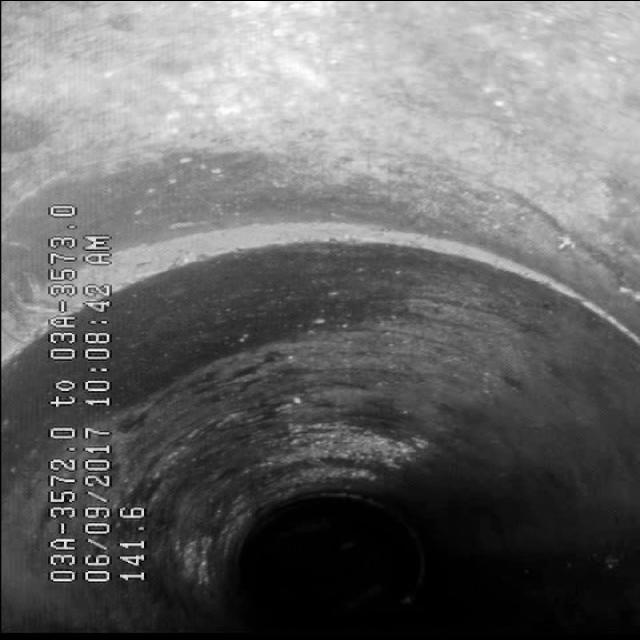Crack: (381, 138, 633, 290)
